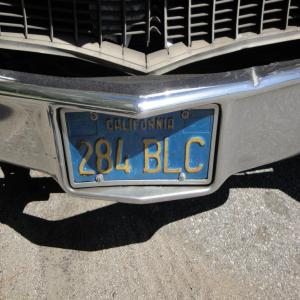Vehicle-registration-plate: (59, 106, 227, 195)
